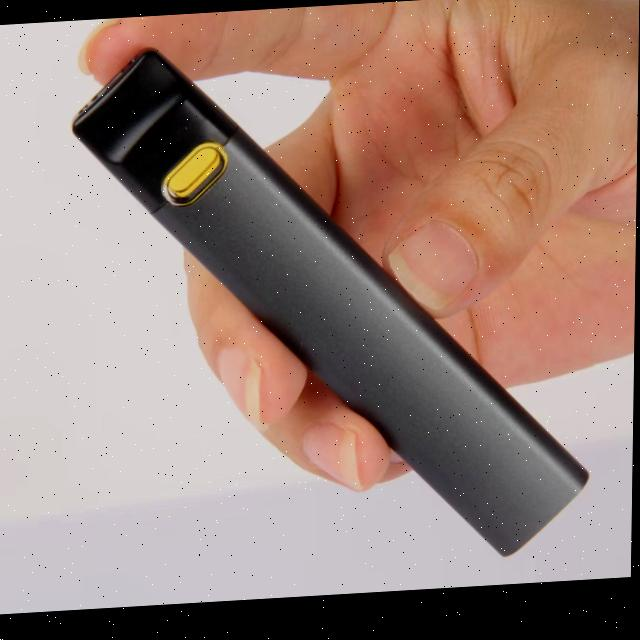vape: (66, 28, 597, 587)
